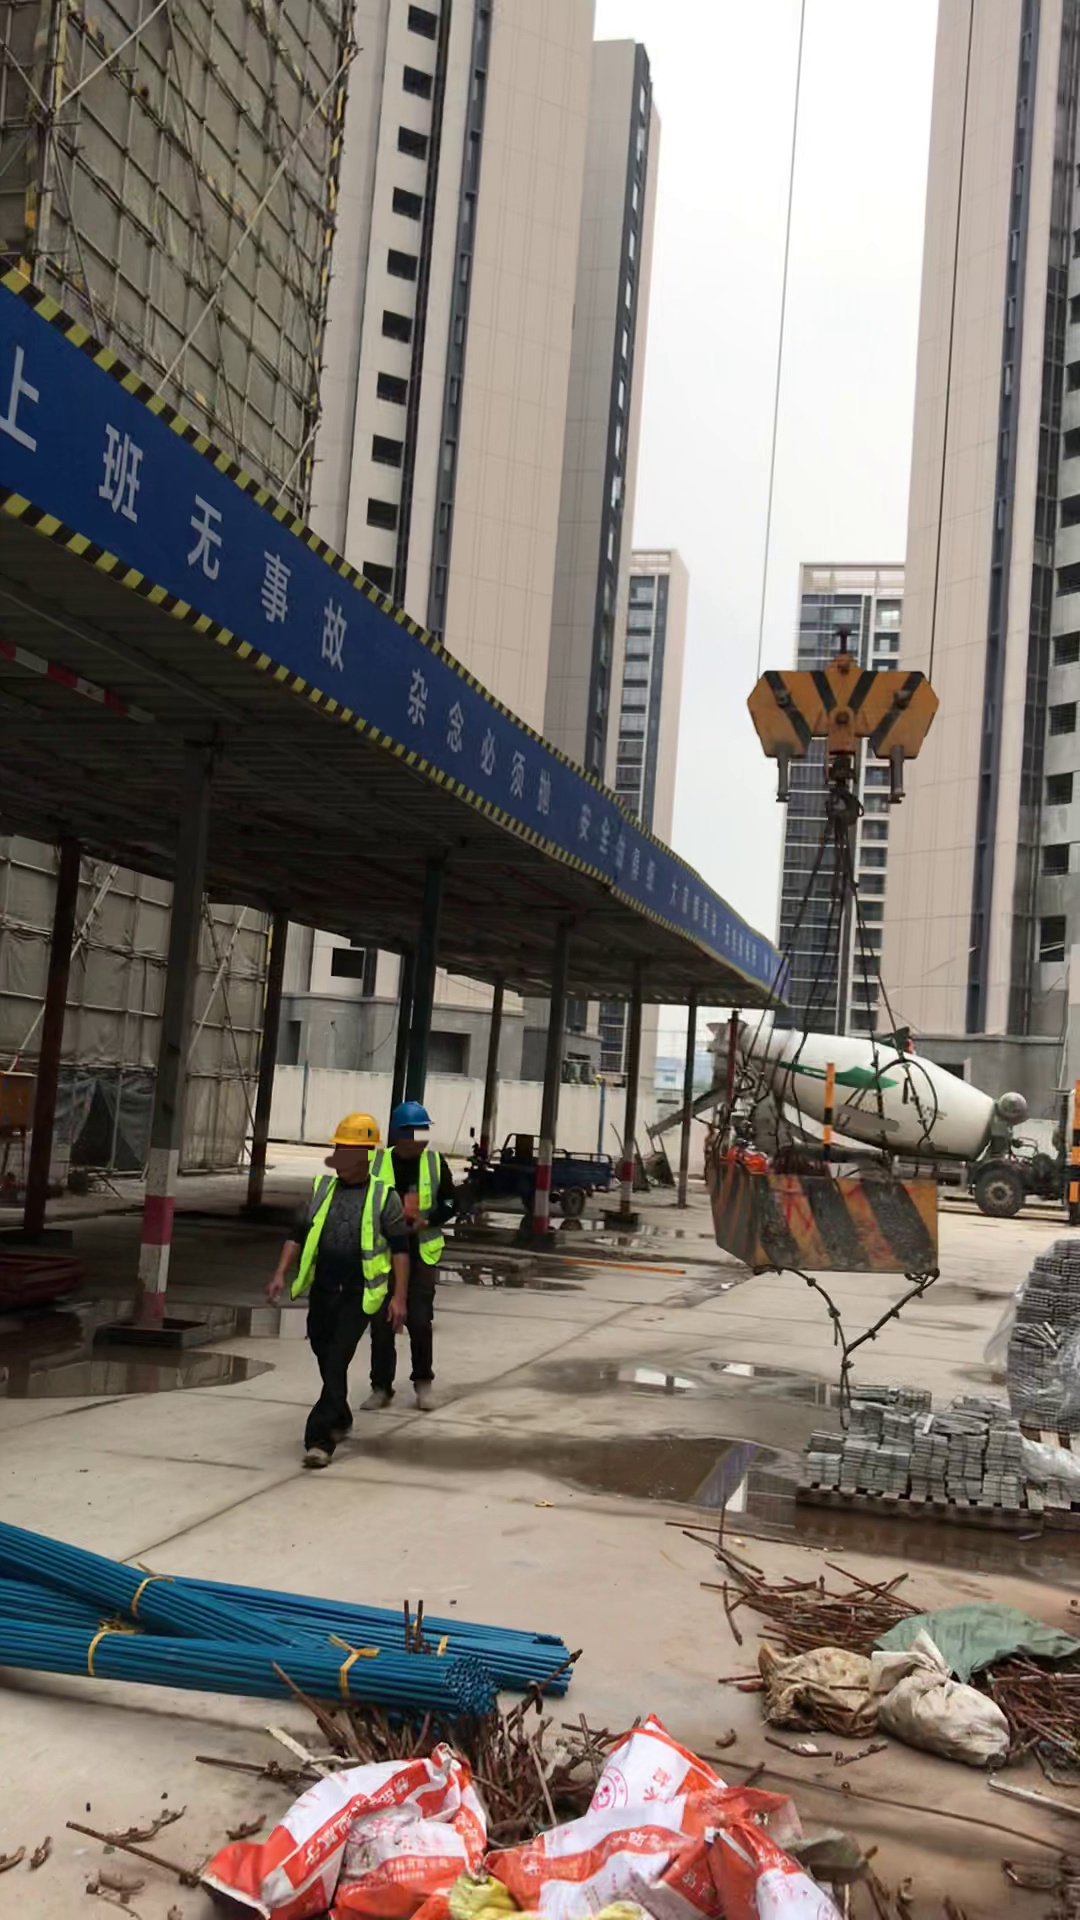handcart: (613, 1118, 688, 1197)
helmet: (323, 1098, 382, 1159), (402, 1095, 439, 1144)
hook: (744, 626, 948, 779)
person: (274, 1102, 380, 1468), (384, 1093, 468, 1409)
slogan: (3, 316, 780, 993)
vest: (303, 1159, 388, 1309)
